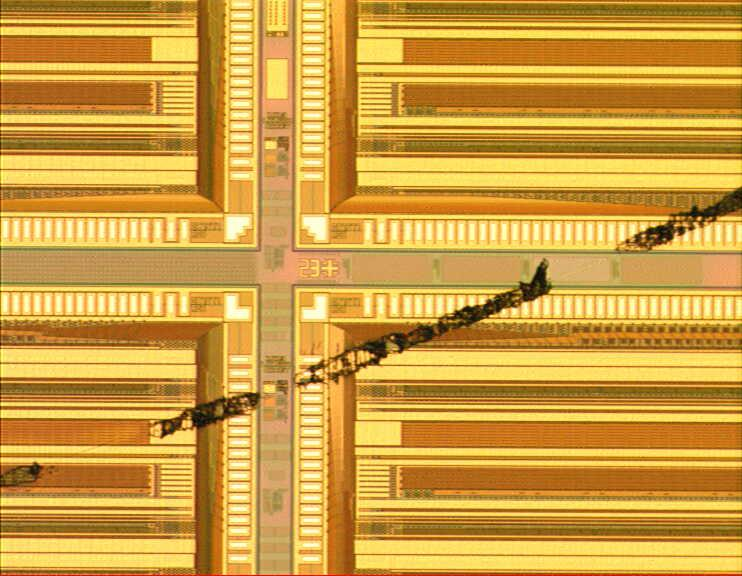SCRATCH: (1, 178, 742, 501)
